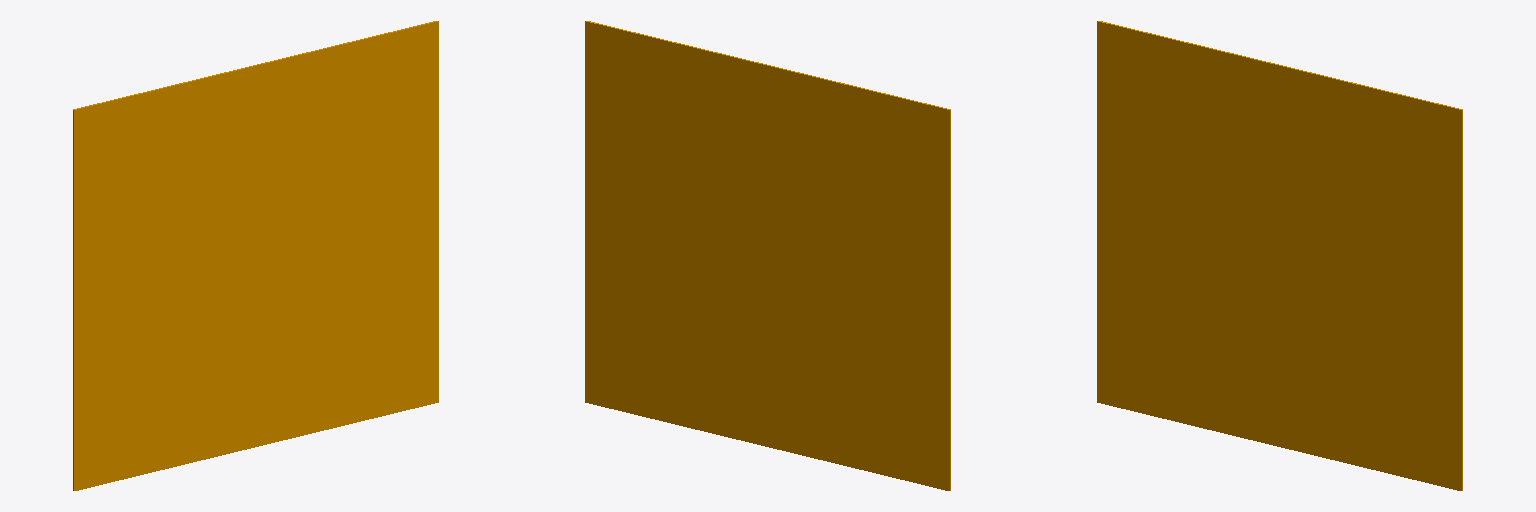
URDF robot description (Plane):
<?xml version="1.0"?>
        <robot name="Plane">
            <link name="base_link">
                <visual>
                    <geometry>
                        <mesh filename="Plane.STL" />
                    </geometry>
                </visual>
                <collision>
                    <geometry>
                        <mesh filename="Plane.STL" />
                    </geometry>
                </collision>
                <inertial>
                    <mass value="1.0" />
                    <origin xyz="0 0 0" rpy="0 0 0" />
                    <inertia ixx="0.1" ixy="0.0" ixz="0.0" iyy="0.1" iyz="0.0" izz="0.1" />
                </inertial>
            </link>
        </robot>
        

--- What the picture shows (computed from the rendered views, not written in the file) ---
The picture shows the robot from 3 angles, left to right: view 1: azimuth 30°, elevation 25°; view 2: azimuth 150°, elevation 25°; view 3: azimuth 330°, elevation 25°; orthographic projection.
Model Plane with 1 links and 0 joints (none), rooted at base_link, posed every joint at zero.
Visible links, largest first — view 1: base_link; view 2: base_link; view 3: base_link.
Boxes of the visible links, x1,y1,x2,y2 form: base_link: (73, 21, 438, 490); base_link: (585, 21, 950, 490); base_link: (1097, 21, 1462, 490).
Size in the robot's own frame: 200 by 1 by 200 metres.
1 mesh visuals loaded from 1 distinct referenced files (1 binary STL).